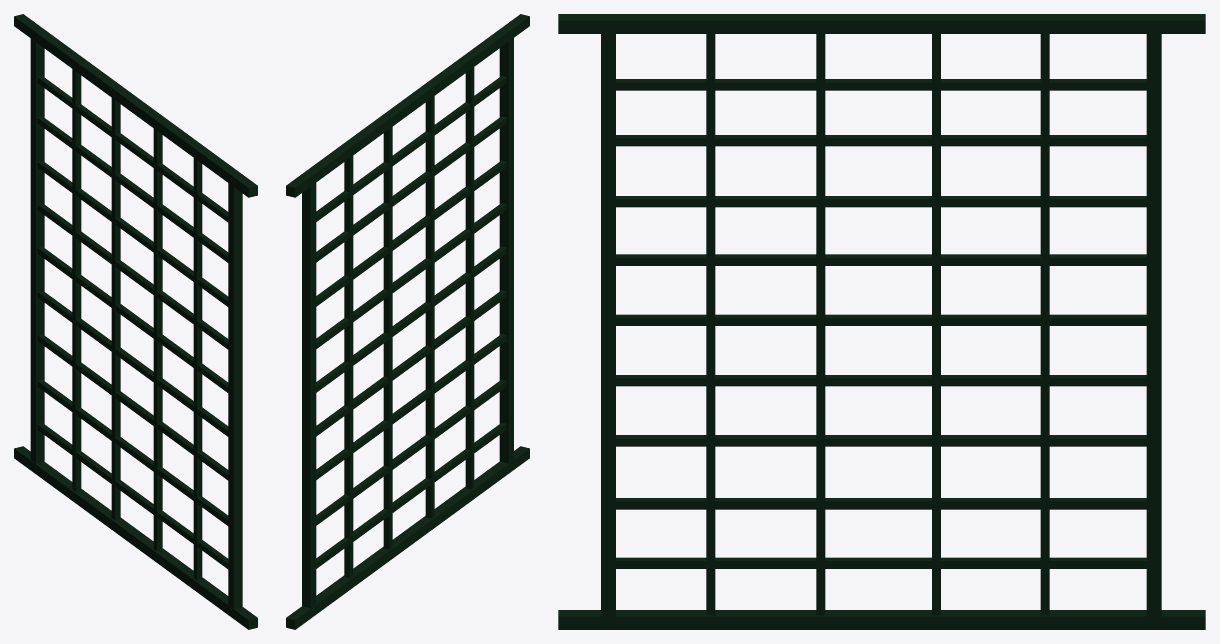
Rendered from WindowLattice.fbx.
3 views of the same model, side by side, from view 1: azimuth 30°, elevation 25°; view 2: azimuth 150°, elevation 25°; view 3: azimuth 270°, elevation 25° (orthographic). The views are drawn at different scales.
Parts seen in each view (by area): view 1: WindowFrame; view 2: WindowFrame; view 3: WindowFrame.
Part boxes in pixels (x1,y1,x2,y2): WindowFrame: (14, 14, 257, 629); WindowFrame: (286, 14, 529, 629); WindowFrame: (558, 14, 1205, 629).
Bounding box in the file's own units: 4.46 × 193 × 201.
